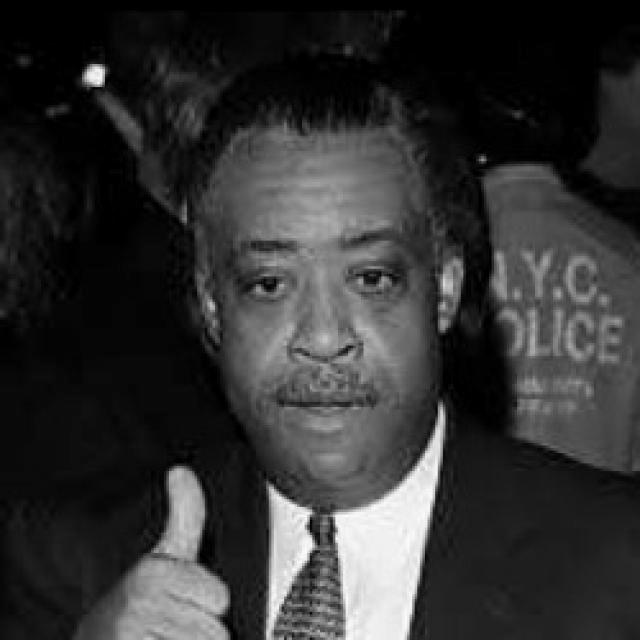real: (201, 128, 439, 494), (228, 255, 430, 325)
